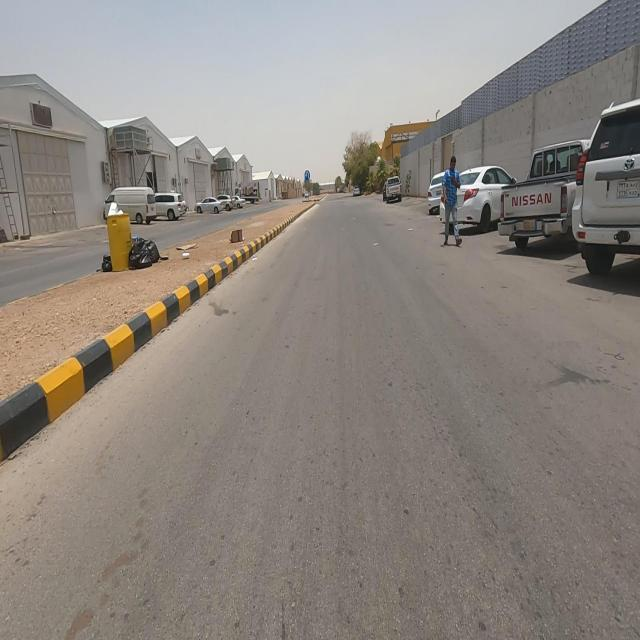debris: (99, 196, 188, 286), (157, 217, 216, 290), (206, 203, 271, 266), (89, 217, 125, 299), (95, 184, 132, 230)
